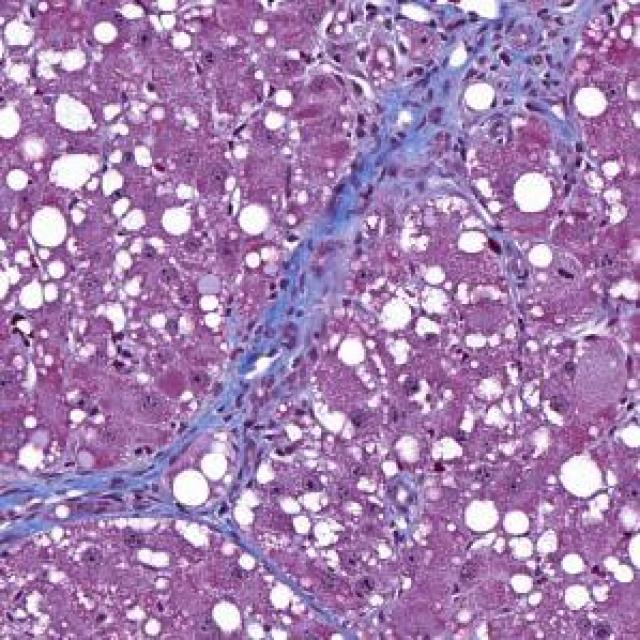fibrosis: (338, 0, 589, 193), (229, 253, 340, 452), (0, 460, 169, 546)
